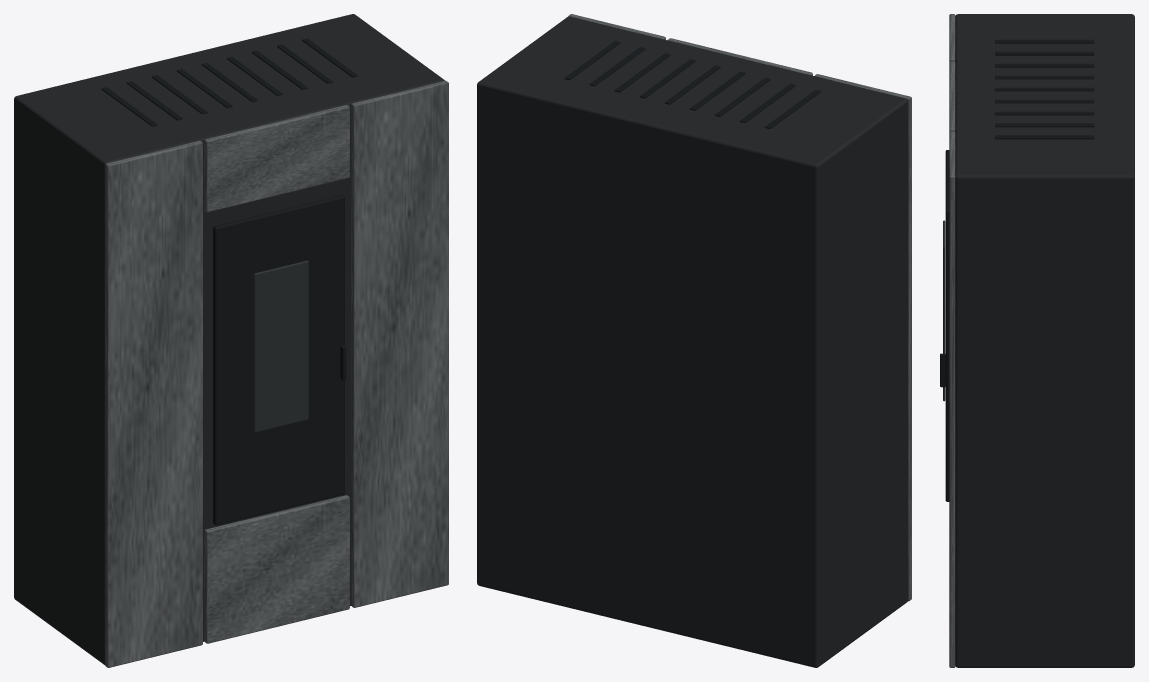
Rendered from nordica-marilena-plus-petra-50-ad-pietra.glb.
3 views of the same model, side by side, from view 1: azimuth 30°, elevation 25°; view 2: azimuth 150°, elevation 25°; view 3: azimuth 270°, elevation 25° (orthographic). The views are drawn at different scales.
Visible parts, largest first — view 1: Corpo.002, Pannello laterale.004, Pannello laterale.005, Cornice porta.002, Pannello inferiore.002, Pannello superiore.002, Vetro sportello.002; view 2: Corpo.002, Pannello laterale.004; view 3: Corpo.002, Pannello laterale.005, Cornice porta.002, Griglia superiore.020, Griglia superiore.025, Griglia superiore.018, Griglia superiore.019, Griglia superiore.021, Griglia superiore.022, Griglia superiore.023, Griglia superiore.024, Griglia superiore.026 (+3 smaller).
Boxes of the visible parts, <box> form: Corpo.002: <box>14,14,444,664</box>; Pannello laterale.004: <box>105,140,202,667</box>; Pannello laterale.005: <box>351,80,448,607</box>; Cornice porta.002: <box>213,195,344,525</box>; Pannello inferiore.002: <box>204,495,349,643</box>; Pannello superiore.002: <box>204,105,349,212</box>; Vetro sportello.002: <box>253,260,308,432</box>; Corpo.002: <box>477,16,908,667</box>; Pannello laterale.004: <box>814,74,911,601</box>; Corpo.002: <box>955,14,1134,667</box>; Pannello laterale.005: <box>949,131,955,667</box>; Cornice porta.002: <box>945,150,949,501</box>; Griglia superiore.020: <box>995,63,1094,67</box>; Griglia superiore.025: <box>995,123,1094,127</box>; Griglia superiore.018: <box>995,39,1094,43</box>; Griglia superiore.019: <box>995,51,1094,55</box>; Griglia superiore.021: <box>995,75,1094,79</box>; Griglia superiore.022: <box>995,87,1094,91</box>; Griglia superiore.023: <box>995,99,1094,103</box>; Griglia superiore.024: <box>995,111,1094,115</box>; Griglia superiore.026: <box>995,135,1094,139</box>.
Size of the model in its own units: 0.75 by 1.07 by 0.379.
4 materials, 1 textured.
